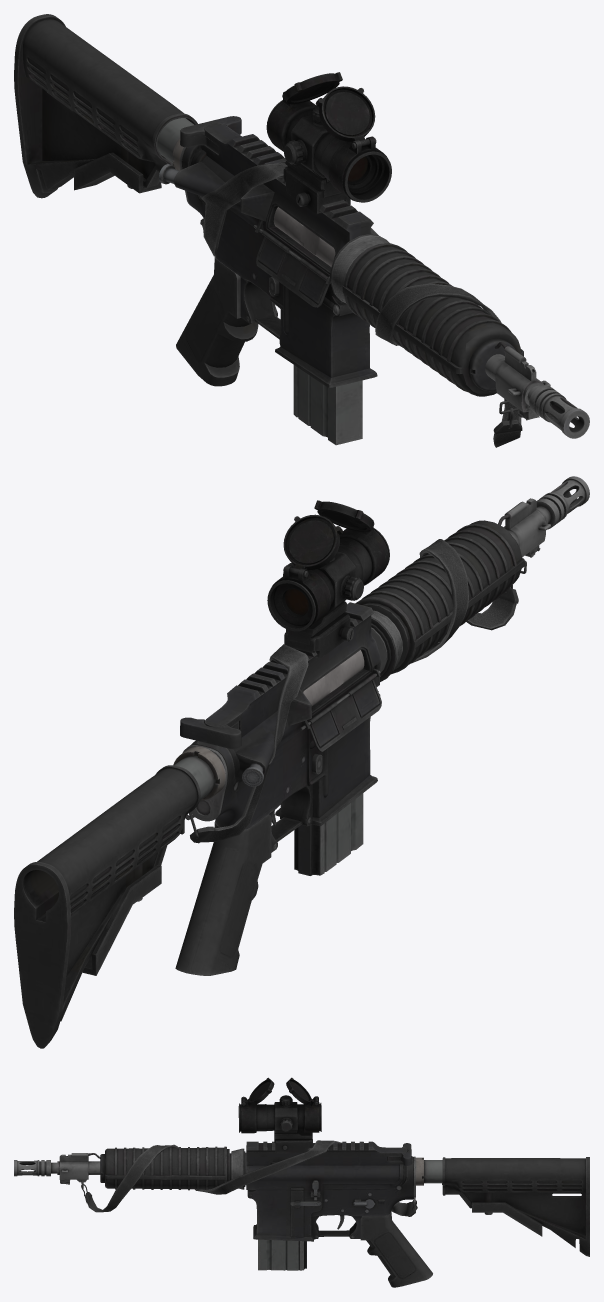
File: classic_m4.glb
The picture shows the model from 3 angles, top to bottom: view 1: azimuth 30°, elevation 25°; view 2: azimuth 150°, elevation 25°; view 3: azimuth 270°, elevation 25°; orthographic projection. The views are drawn at different scales.
Visible parts, largest first — view 1: Receiver, Stock, Scope, Sling, Magazine, BoltCarrier, ChargingHandle; view 2: Receiver, Stock, Scope, Sling, Magazine, ChargingHandle, BoltCarrier; view 3: Receiver, Stock, Scope, Sling, Magazine.
Boxes of the visible parts, box(x1,y1,x2,y2) form: Receiver: box(157, 118, 589, 438); Stock: box(14, 14, 197, 198); Scope: box(266, 72, 391, 214); Sling: box(200, 163, 522, 447); Magazine: box(293, 365, 362, 445); BoltCarrier: box(273, 207, 335, 266); ChargingHandle: box(180, 116, 241, 153); Receiver: box(173, 476, 589, 975); Stock: box(14, 765, 200, 1048); Scope: box(267, 500, 389, 658); Sling: box(189, 539, 526, 843); Magazine: box(294, 793, 363, 875); ChargingHandle: box(180, 717, 241, 749); BoltCarrier: box(303, 650, 364, 706); Receiver: box(14, 1141, 442, 1287); Stock: box(442, 1157, 589, 1256); Scope: box(238, 1077, 321, 1153); Sling: box(81, 1140, 417, 1216); Magazine: box(258, 1239, 306, 1270).
Bounding box in the file's own units: 0.0652 × 0.2612 × 0.6679.
Materials: 3 (3 with a texture image).
